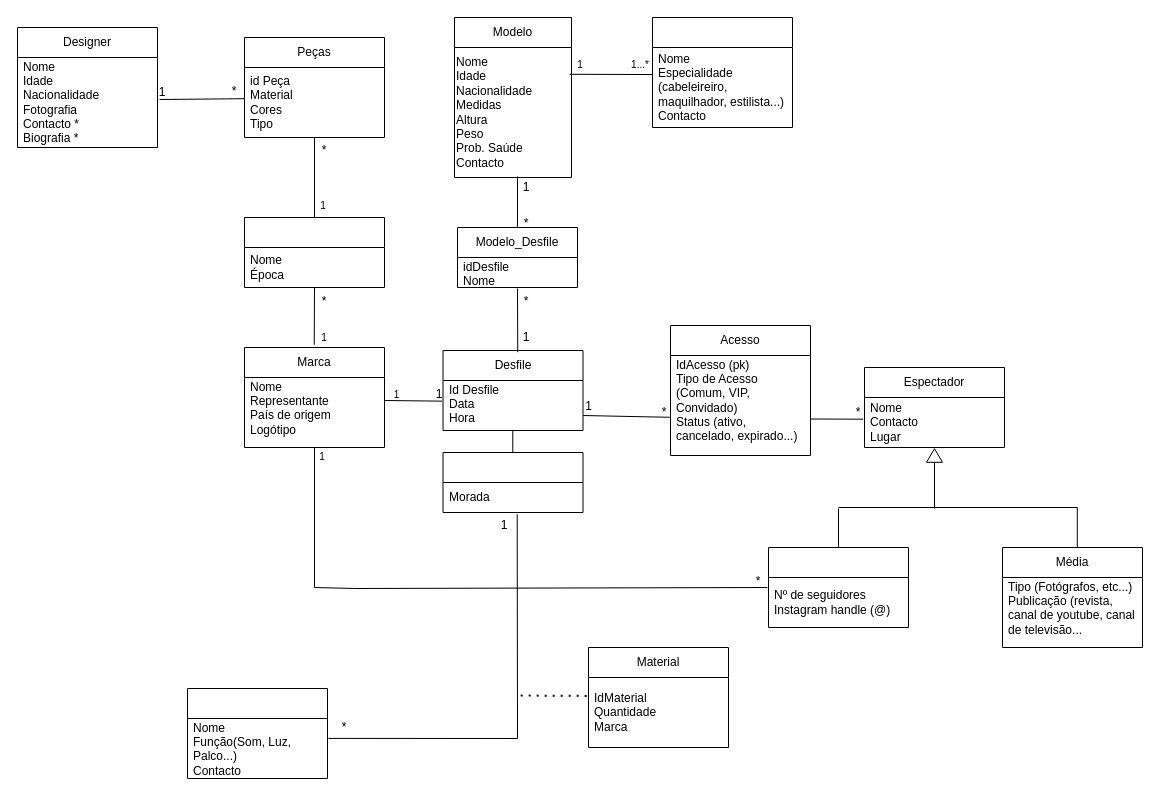
Some shapes in this 1160 by 796 pixel diagram are drawn without their labels. The box of each missing label's shape, as (x1, y1, x2, y2) in pixels:
Coleção: (244, 216, 384, 288)
Influencer: (768, 546, 908, 628)
Localização: (442, 452, 583, 512)
Técnicos de Styling: (652, 16, 792, 128)
Técnicos Locais: (186, 688, 328, 778)
